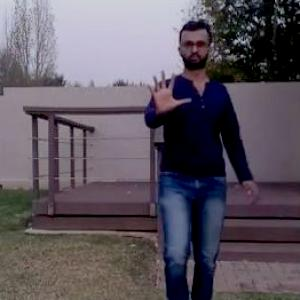follow_hand: (142, 66, 192, 114)
